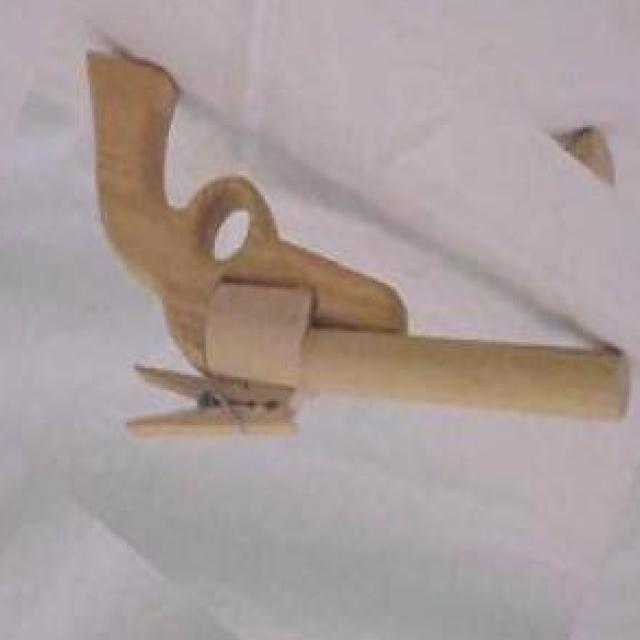pistol: (70, 57, 632, 454)
